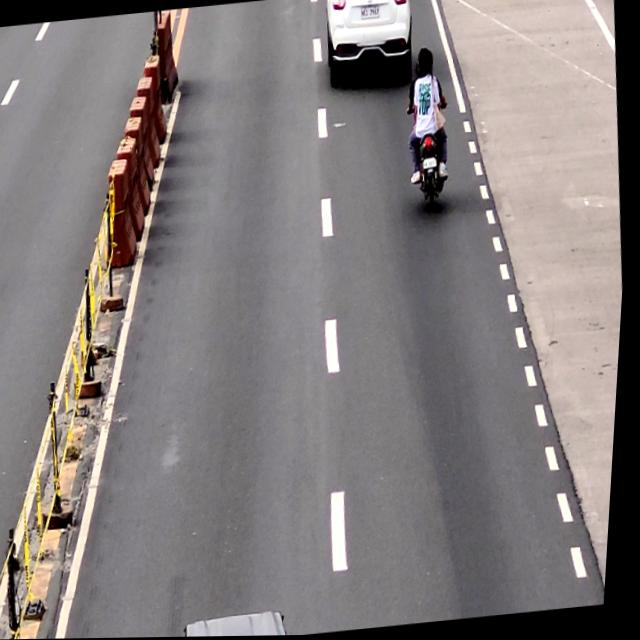Car: (321, 0, 419, 87)
License-Plate: (359, 4, 381, 21), (424, 158, 439, 172)
Motorcycle: (404, 99, 458, 217)
